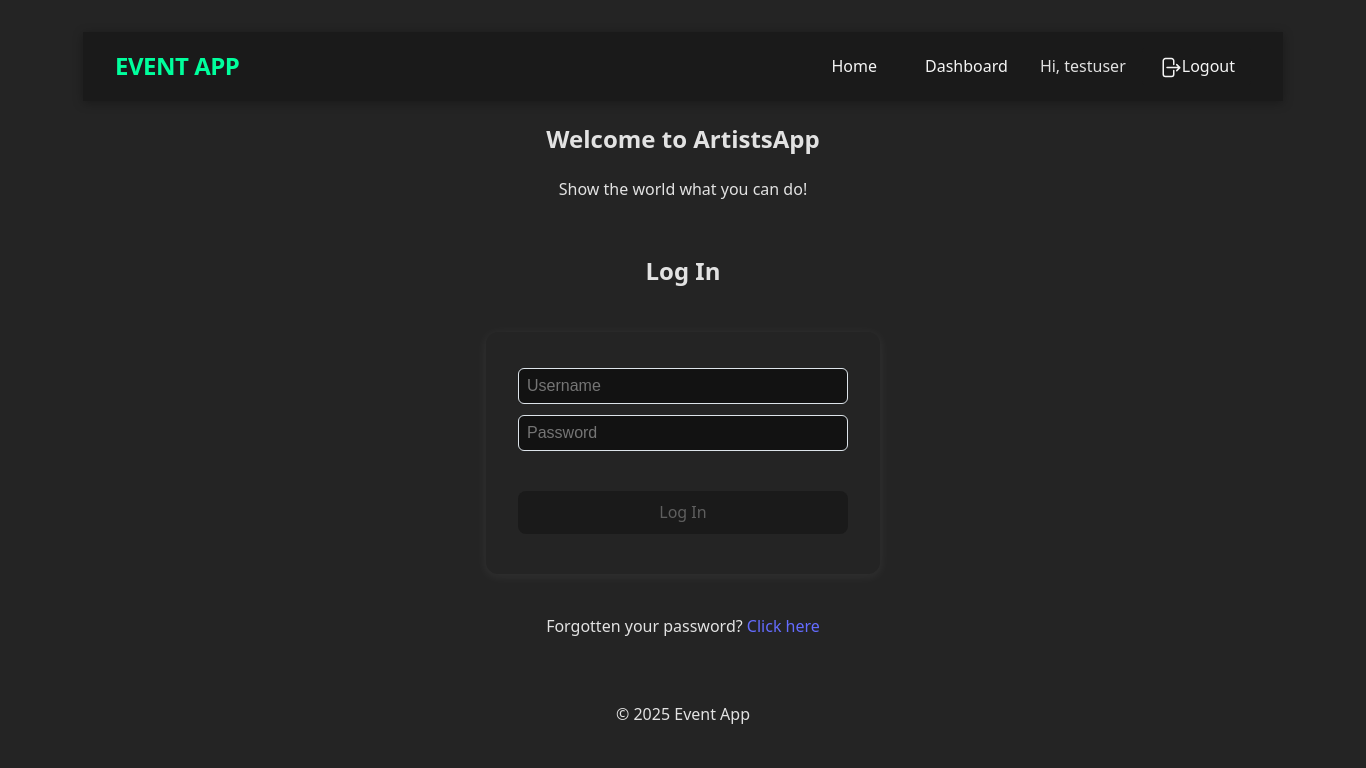
Login › redirect to forgot your password
Click the link "Click here": (783, 626) [747,615,820,637]
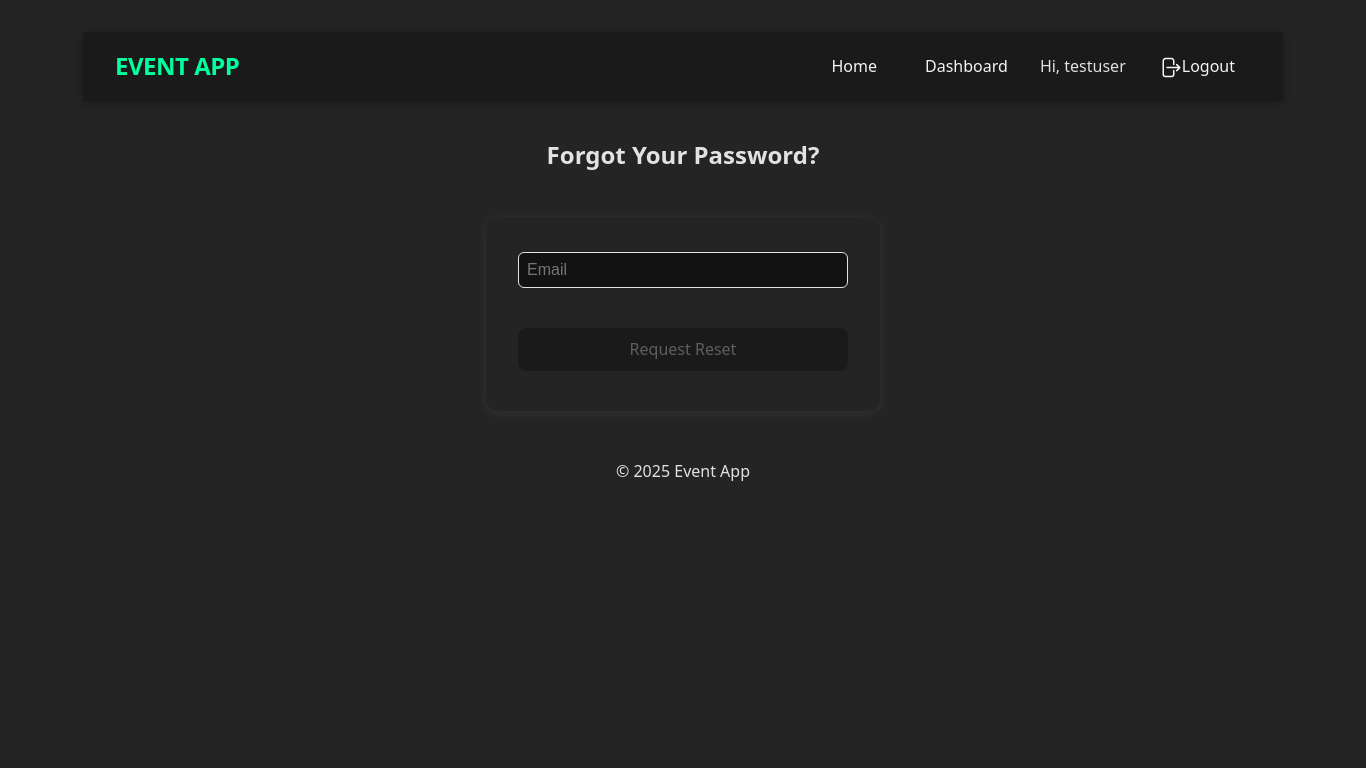
Result: the heading "Forgot Your Password?" is shown at [547,137,819,173]
